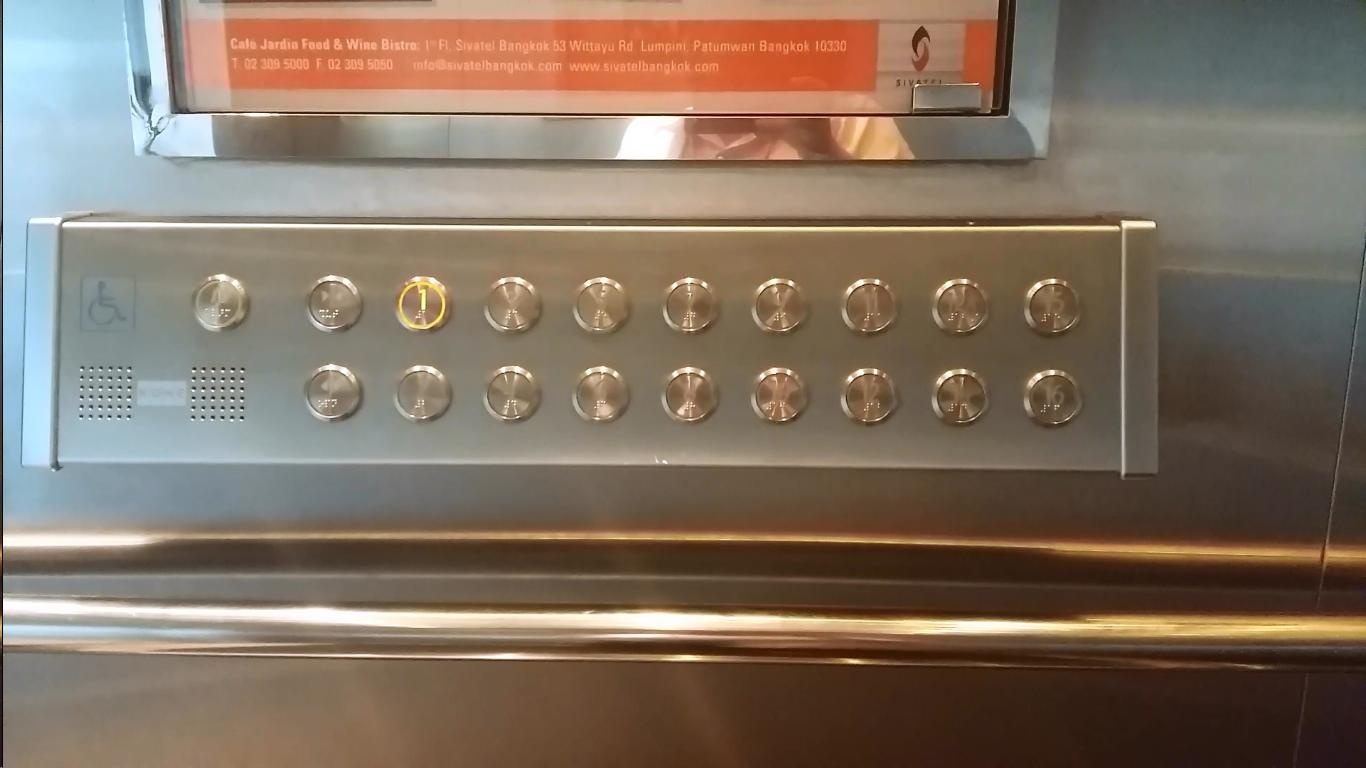1: (394, 276, 450, 332)
11: (840, 279, 897, 333)
12: (839, 367, 897, 424)
15: (1025, 279, 1081, 336)
16: (1022, 369, 1083, 427)
CH: (79, 275, 138, 330)
blur: (482, 274, 542, 333), (660, 276, 719, 333), (392, 364, 451, 421), (931, 369, 990, 426), (571, 276, 629, 333), (661, 367, 718, 424), (572, 365, 629, 422), (931, 278, 988, 335), (750, 368, 809, 423), (750, 278, 807, 333), (483, 366, 540, 421), (192, 275, 247, 331)
close: (304, 273, 362, 331)
open: (303, 363, 361, 421)
